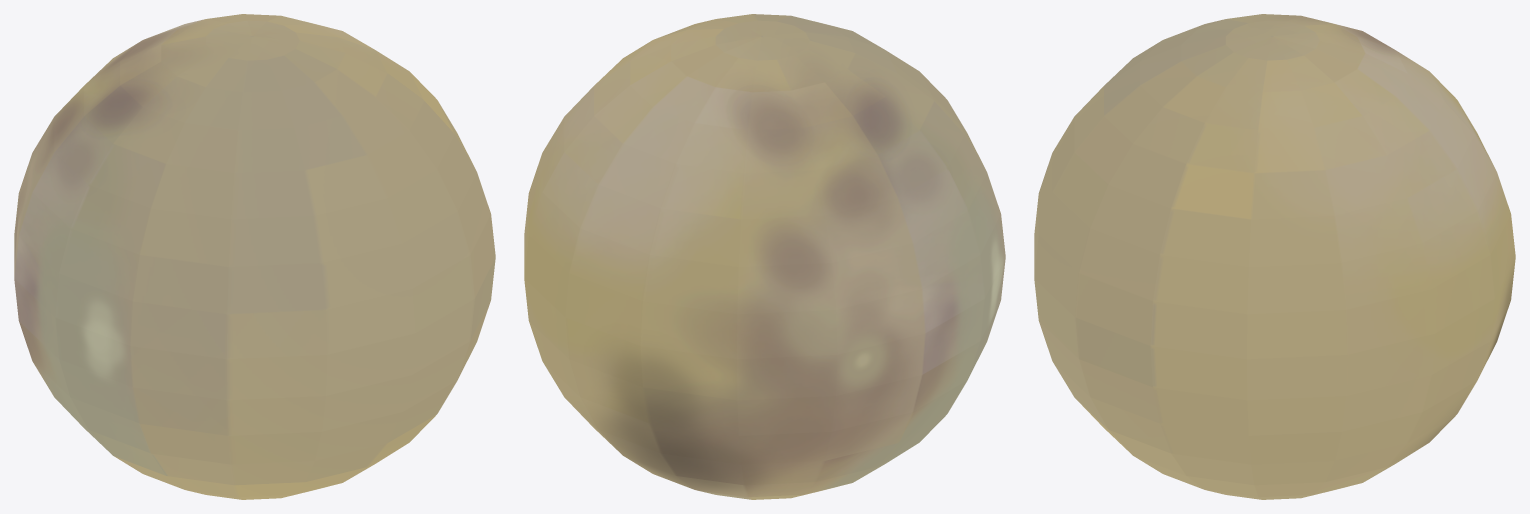
File: moon.glb
The picture shows the model from 3 angles, left to right: view 1: azimuth 30°, elevation 25°; view 2: azimuth 150°, elevation 25°; view 3: azimuth 270°, elevation 25°; orthographic projection.
Visible parts, largest first — view 1: Sphere; view 2: Sphere; view 3: Sphere.
Boxes of the visible parts, bbox=[...] form: Sphere: bbox=[14, 14, 495, 499]; Sphere: bbox=[524, 14, 1005, 499]; Sphere: bbox=[1034, 14, 1515, 499].
Size of the model in its own units: 1.99 by 2 by 1.98.
